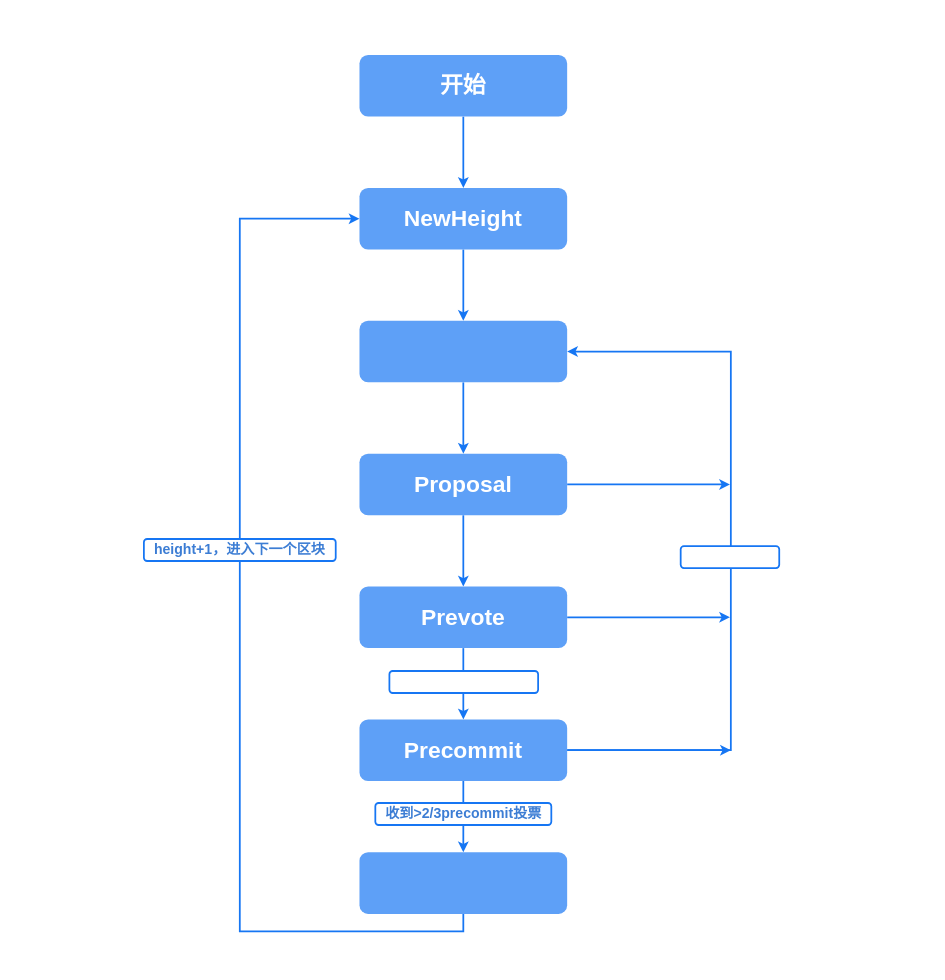
Some shapes in this 945 by 980 pixel diagram are drawn without their labels. The shapes that lost their labels are listed below. From the top down, each one's box as (x1, y1, x2, y2) in pixels, then its label:
(359, 320, 567, 382): NewRound
(679, 545, 780, 568): 超时round+1
(388, 670, 539, 693): 收到>2/3prevote投票
(359, 852, 567, 913): Commit
